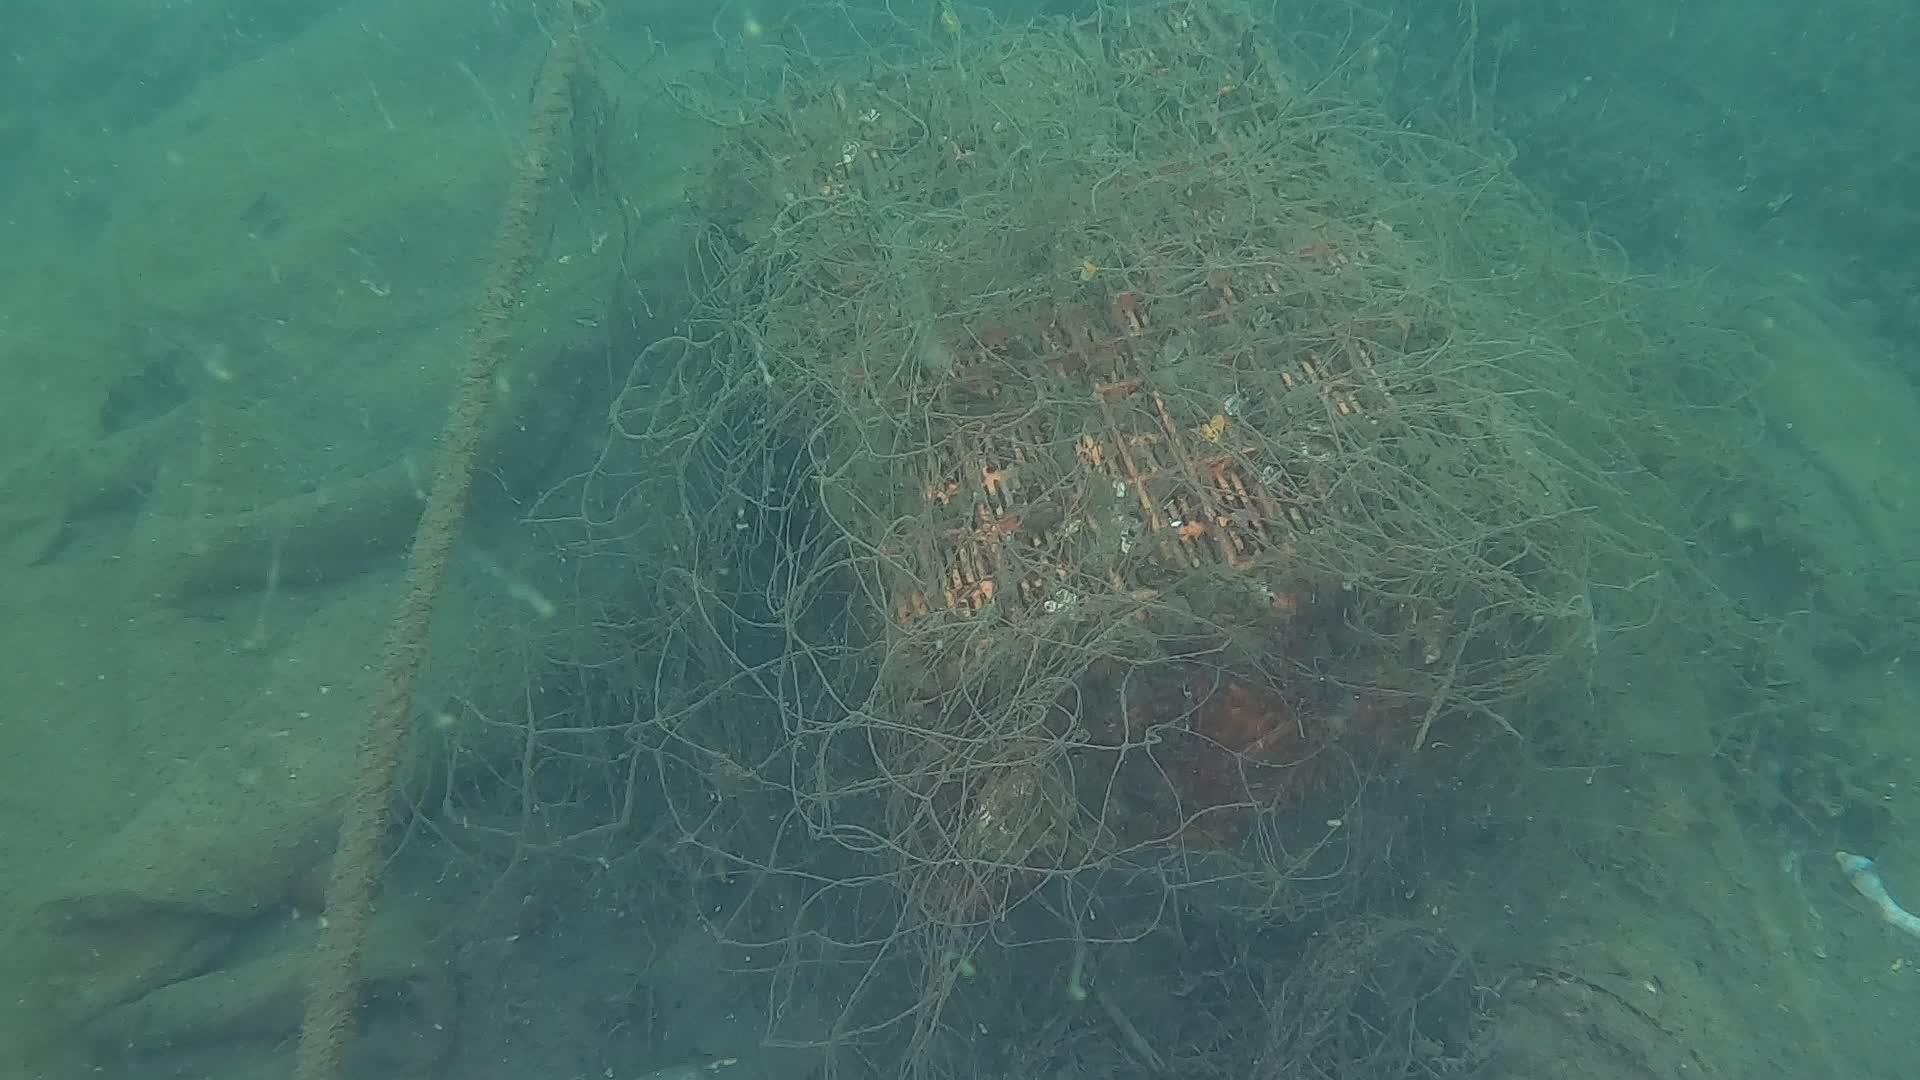rope: (299, 0, 593, 1080)
